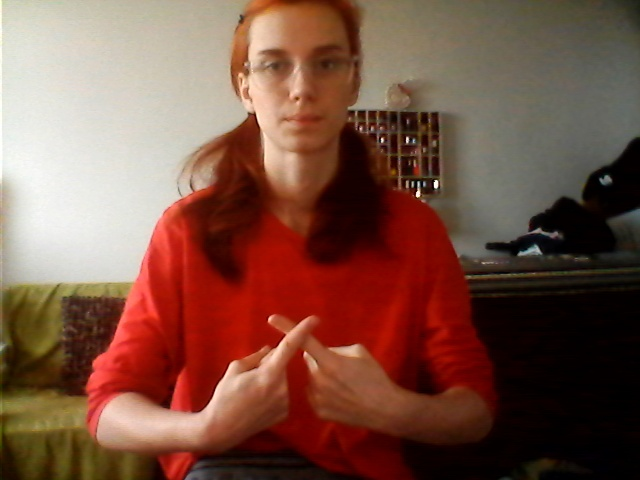x: (204, 303, 387, 443)
